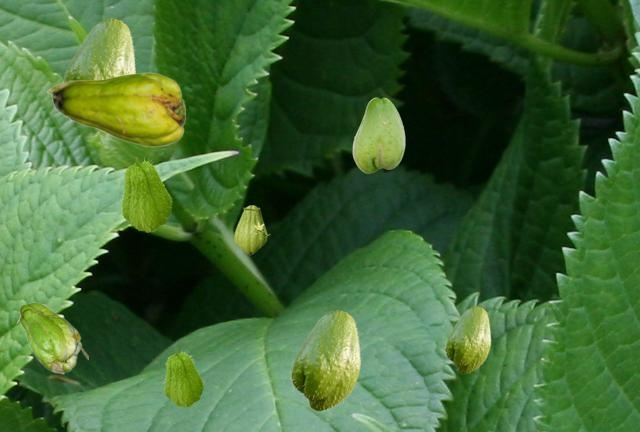sayote: (46, 72, 184, 146), (289, 310, 360, 411), (16, 302, 87, 373), (61, 18, 135, 82), (352, 97, 404, 172), (120, 156, 172, 231), (444, 306, 490, 373), (163, 348, 203, 406), (234, 205, 269, 254)
